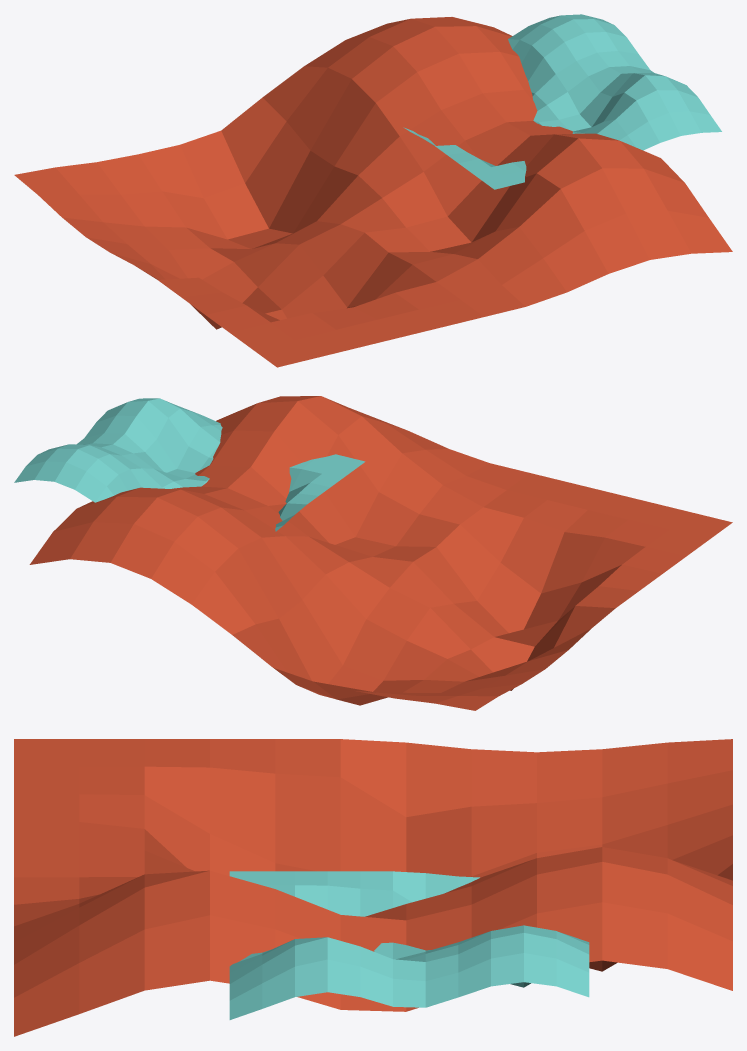
File: toy_terrain.obj
3 views of the same model, one above another, from view 1: azimuth 30°, elevation 25°; view 2: azimuth 150°, elevation 25°; view 3: azimuth 270°, elevation 25° (orthographic). The views are drawn at different scales.
Parts seen in each view (by area): view 1: Plane, Plane.001; view 2: Plane, Plane.001; view 3: Plane, Plane.001.
Part boxes in pixels (x1,y1,x2,y2): Plane: [14, 17, 732, 367]; Plane.001: [403, 14, 721, 189]; Plane: [29, 396, 732, 710]; Plane.001: [14, 398, 365, 531]; Plane: [14, 739, 732, 1036]; Plane.001: [229, 871, 589, 1019].
Size of the model in its own units: 115 by 37.99 by 100.
